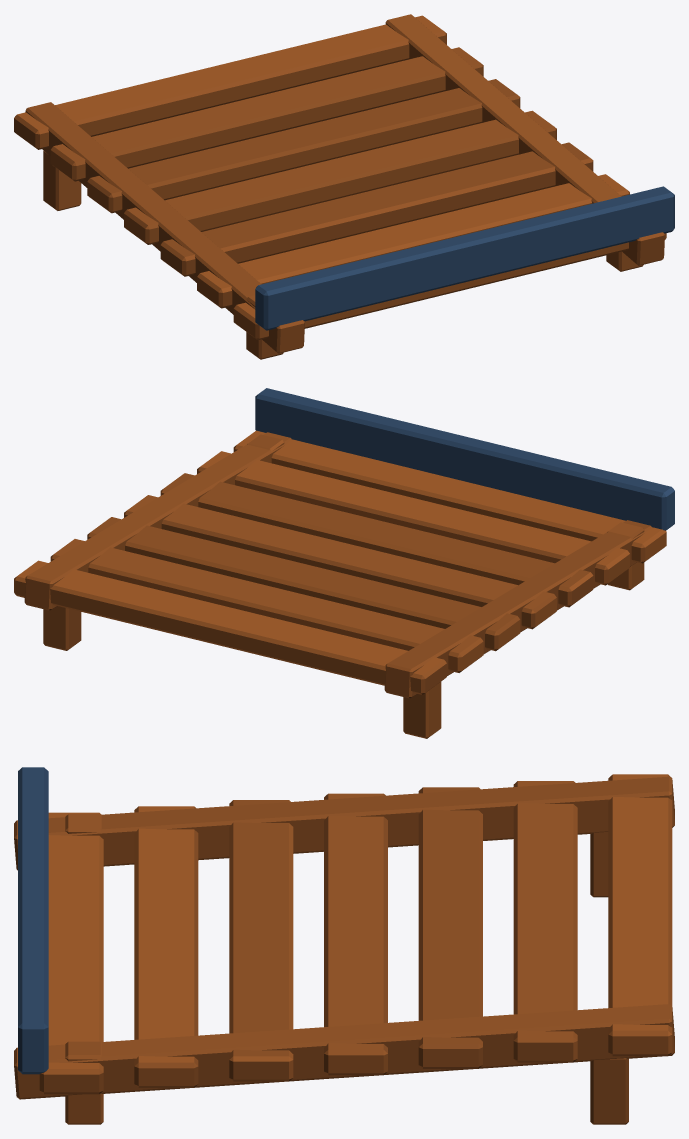
Rendered from ES_13_Slatted_Slipper_Stand.fbx.
3 renders of one model, top to bottom at view 1: azimuth 30°, elevation 25°; view 2: azimuth 150°, elevation 25°; view 3: azimuth 270°, elevation 25°, orthographic. The views are drawn at different scales.
Visible parts, largest first — view 1: ES_13_Slatted_Slipper_Stand; view 2: ES_13_Slatted_Slipper_Stand; view 3: ES_13_Slatted_Slipper_Stand.
Part boxes in pixels (x1,y1,x2,y2): ES_13_Slatted_Slipper_Stand: (14,14,674,359); ES_13_Slatted_Slipper_Stand: (14,388,674,738); ES_13_Slatted_Slipper_Stand: (14,767,674,1124).
Bounding box in the file's own units: 2.4 × 0.47 × 2.58.
